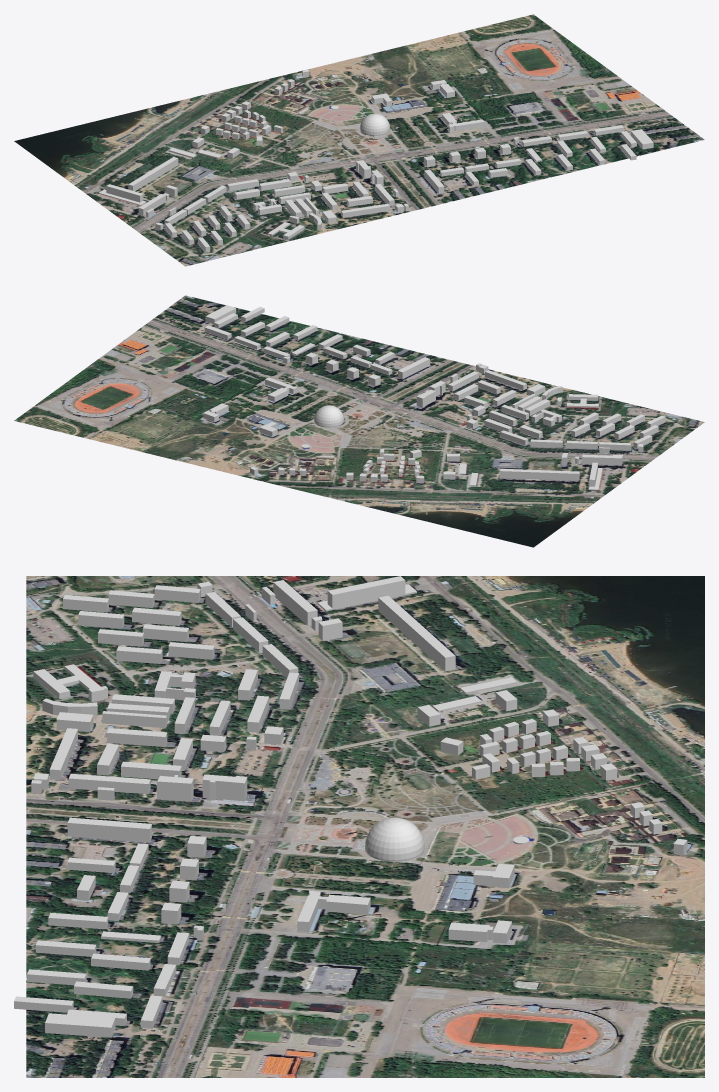
Rendered from myzei.glb.
3 renders of one model, top to bottom at view 1: azimuth 30°, elevation 25°; view 2: azimuth 150°, elevation 25°; view 3: azimuth 270°, elevation 25°, orthographic. The views are drawn at different scales.
Visible parts, largest first — view 1: EXPORT_GOOGLE_SAT_WM, Areas:building, Sphere; view 2: EXPORT_GOOGLE_SAT_WM, Areas:building, Sphere; view 3: EXPORT_GOOGLE_SAT_WM, Areas:building, Sphere.
Boxes of the visible parts, x1=… form: EXPORT_GOOGLE_SAT_WM: x1=14, y1=14, x2=704, y2=266; Areas:building: x1=98, y1=69, x2=653, y2=252; Sphere: x1=360, y1=113, x2=390, y2=135; EXPORT_GOOGLE_SAT_WM: x1=14, y1=295, x2=704, y2=547; Areas:building: x1=203, y1=305, x2=665, y2=490; Sphere: x1=314, y1=405, x2=344, y2=427; EXPORT_GOOGLE_SAT_WM: x1=26, y1=576, x2=704, y2=1077; Areas:building: x1=14, y1=576, x2=687, y2=1037; Sphere: x1=365, y1=817, x2=424, y2=861.
Bounding box in the file's own units: 2140 × 108 × 1245.
1 material, 1 textured.
